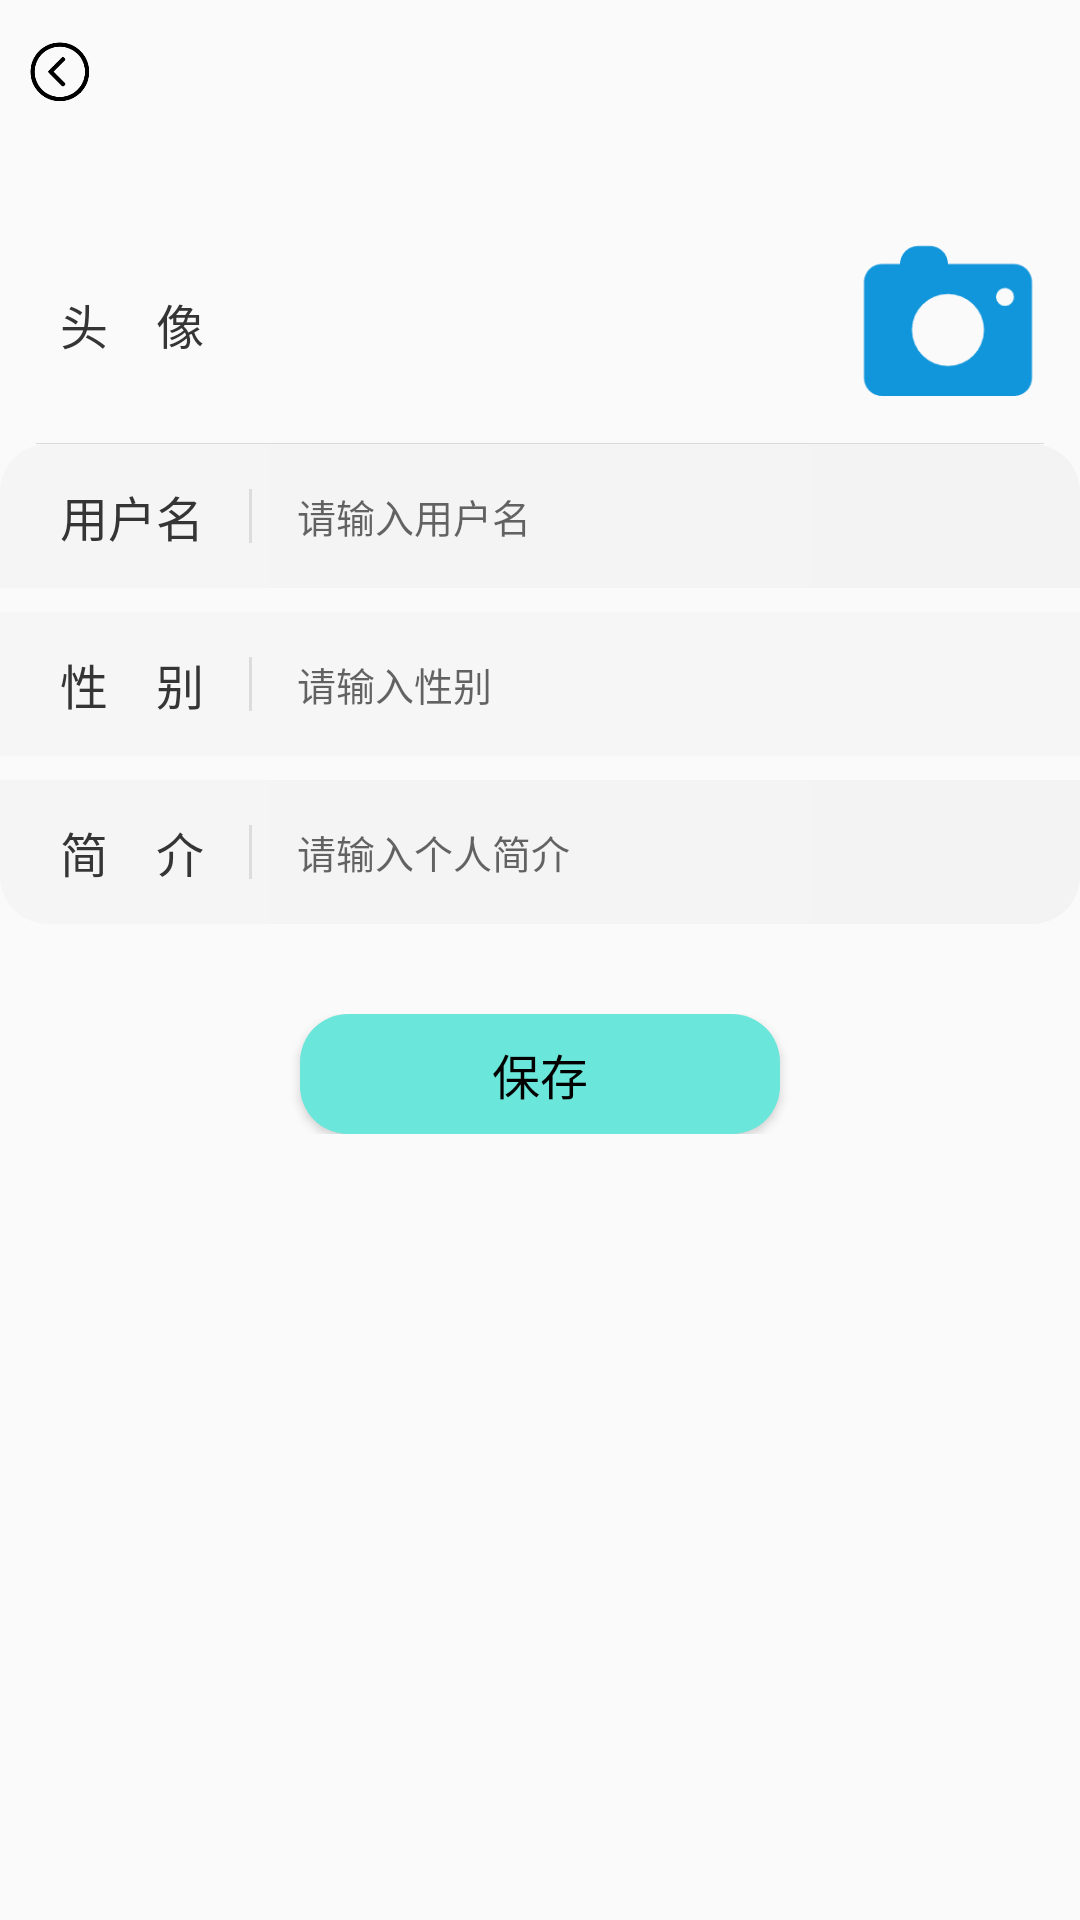

Where icons sit on this 1080 x 1920 app screen, as (x1, y1, x2, y2):
back: (30, 42, 89, 101)
camera: (863, 245, 1033, 396)
